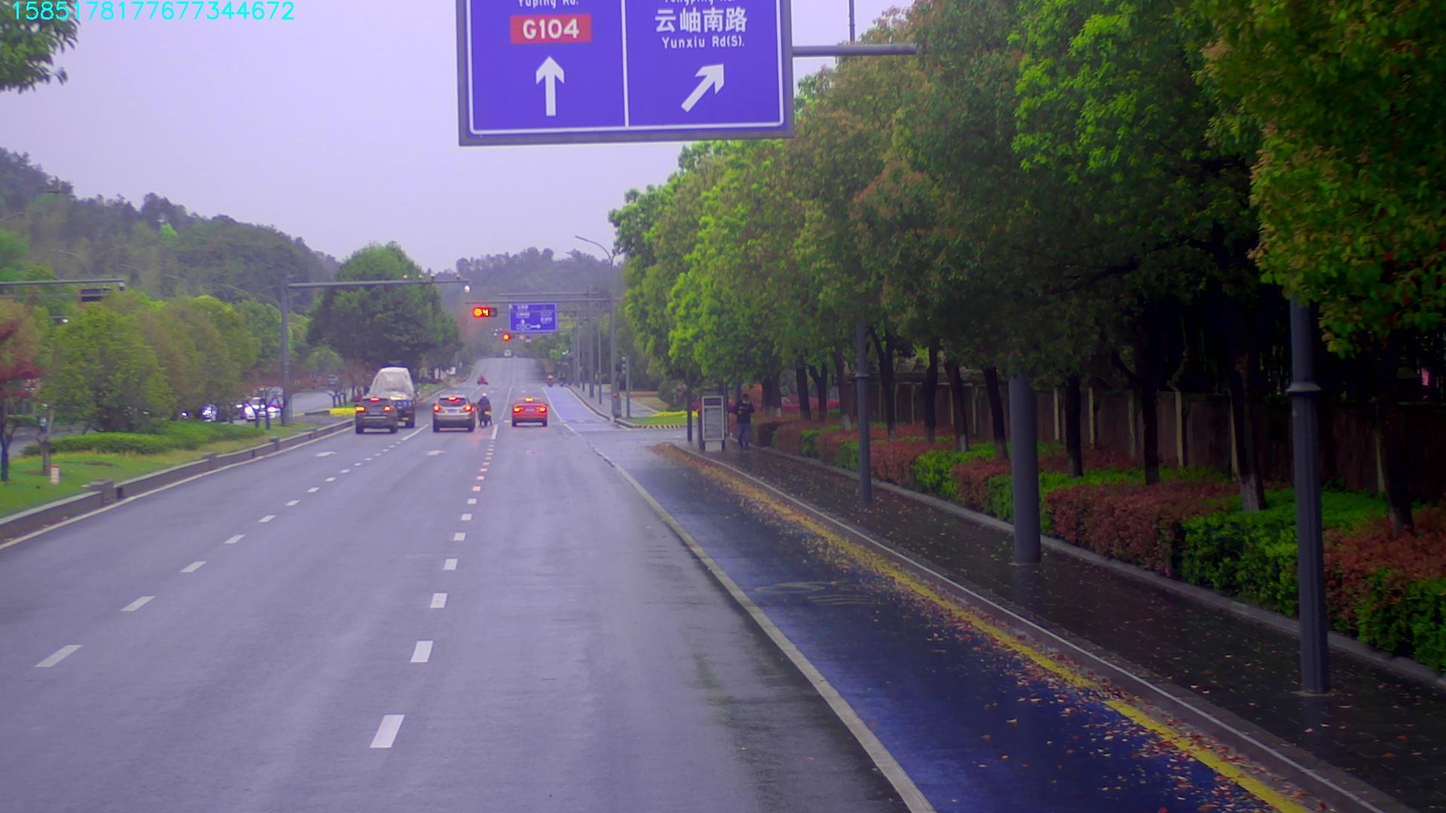red: (472, 304, 498, 319)
